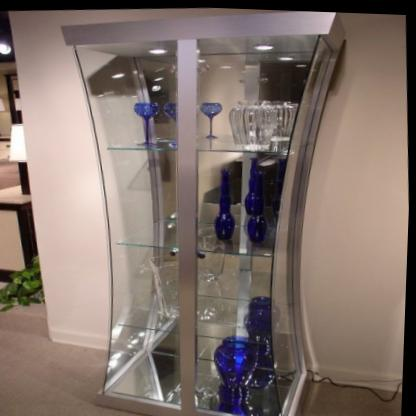Cupboard: (62, 9, 345, 416)
